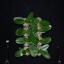leaf: (14, 47, 25, 57), (39, 25, 52, 33), (24, 13, 34, 23), (40, 50, 51, 59), (28, 23, 38, 32), (26, 46, 38, 53), (40, 37, 51, 44), (15, 28, 26, 35), (40, 44, 49, 52), (16, 37, 26, 44), (27, 32, 34, 42), (14, 18, 25, 24), (40, 20, 49, 26), (32, 37, 40, 43), (31, 18, 39, 24), (26, 28, 34, 34), (22, 50, 26, 54), (23, 37, 27, 41), (37, 50, 40, 53), (39, 39, 42, 42)
